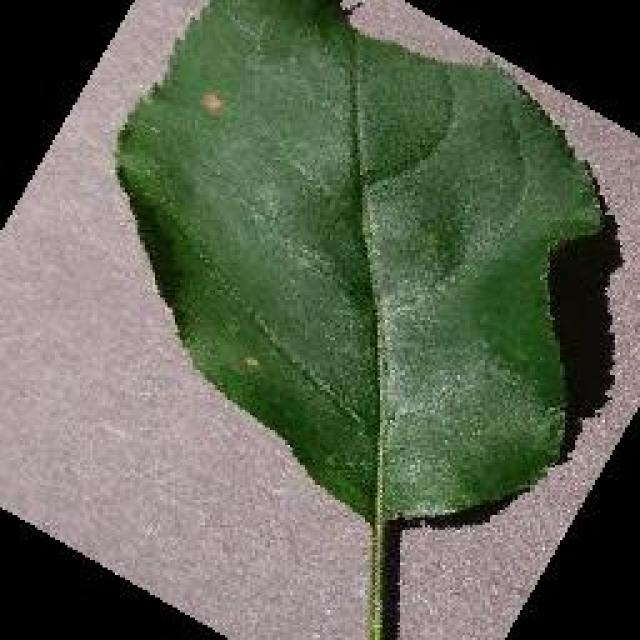Black_rot: (110, 0, 610, 530)
